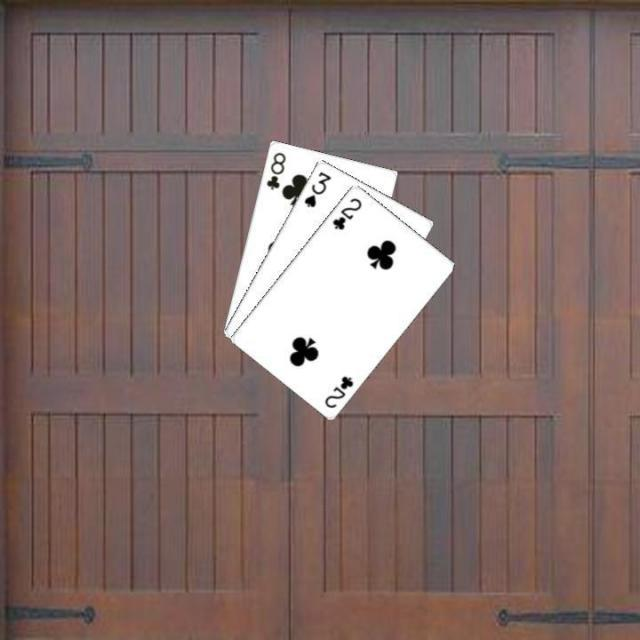2C: (328, 194, 364, 232), (320, 372, 356, 409)
3S: (300, 167, 332, 209)
8C: (262, 148, 287, 192)
